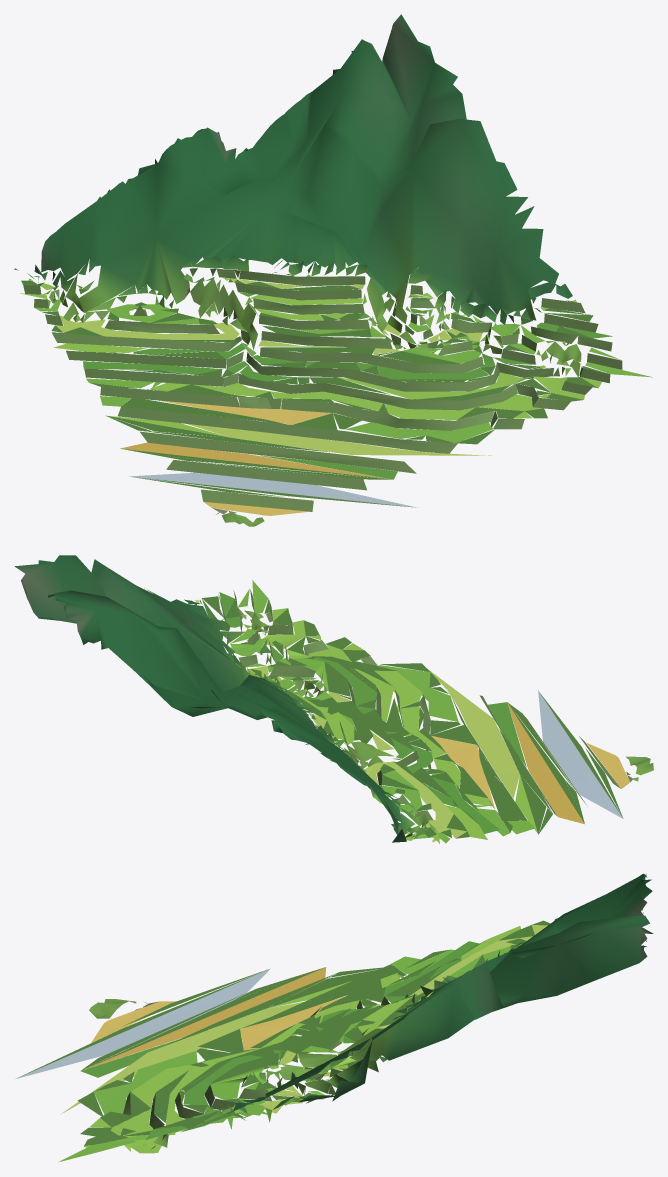
The model's file is payo_land_xm3_y5_lod2.glb.
3 renders of one model, top to bottom at view 1: azimuth 30°, elevation 25°; view 2: azimuth 150°, elevation 25°; view 3: azimuth 270°, elevation 25°, orthographic. The views are drawn at different scales.
Parts seen in each view (by area): view 1: payo_land_xm3_y5; view 2: payo_land_xm3_y5; view 3: payo_land_xm3_y5.
Part boxes in pixels (x1,y1,x2,y2): payo_land_xm3_y5: (14,14,652,526); payo_land_xm3_y5: (14,555,653,843); payo_land_xm3_y5: (16,873,653,1162).
Size of the model in its own units: 288 by 163 by 297.
